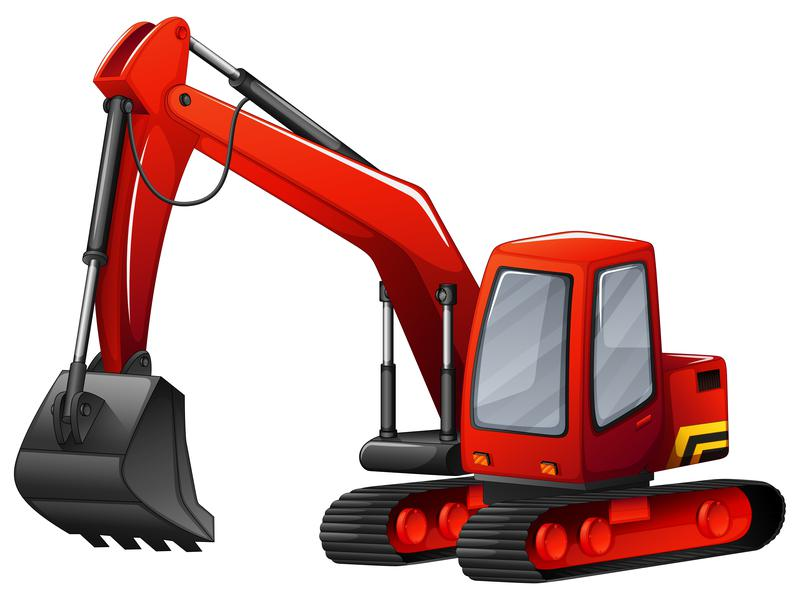shovel: (4, 12, 786, 586)
